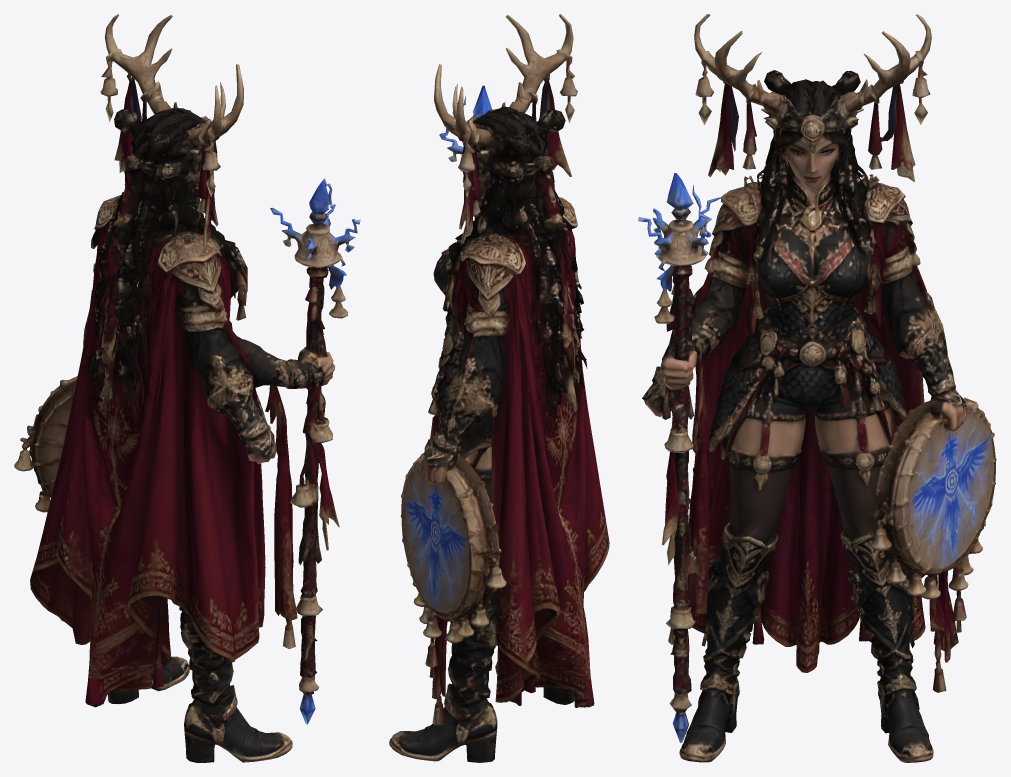
Rendered from drumcaller_T9-tripo.glb.
3 views of the same model, side by side, from view 1: azimuth 30°, elevation 25°; view 2: azimuth 150°, elevation 25°; view 3: azimuth 270°, elevation 25° (orthographic). The views are drawn at different scales.
Parts seen in each view (by area): view 1: tripo_node_2b2c517d-de00-4d08-b8e8-ba62af01dd23; view 2: tripo_node_2b2c517d-de00-4d08-b8e8-ba62af01dd23; view 3: tripo_node_2b2c517d-de00-4d08-b8e8-ba62af01dd23.
Boxes of the visible parts, <box> form: tripo_node_2b2c517d-de00-4d08-b8e8-ba62af01dd23: <box>14,14,360,762</box>; tripo_node_2b2c517d-de00-4d08-b8e8-ba62af01dd23: <box>389,14,609,762</box>; tripo_node_2b2c517d-de00-4d08-b8e8-ba62af01dd23: <box>638,14,996,762</box>.
Size of the model in its own units: 0.3103 by 1 by 0.4509.
Materials: 1 (1 with a texture image).
